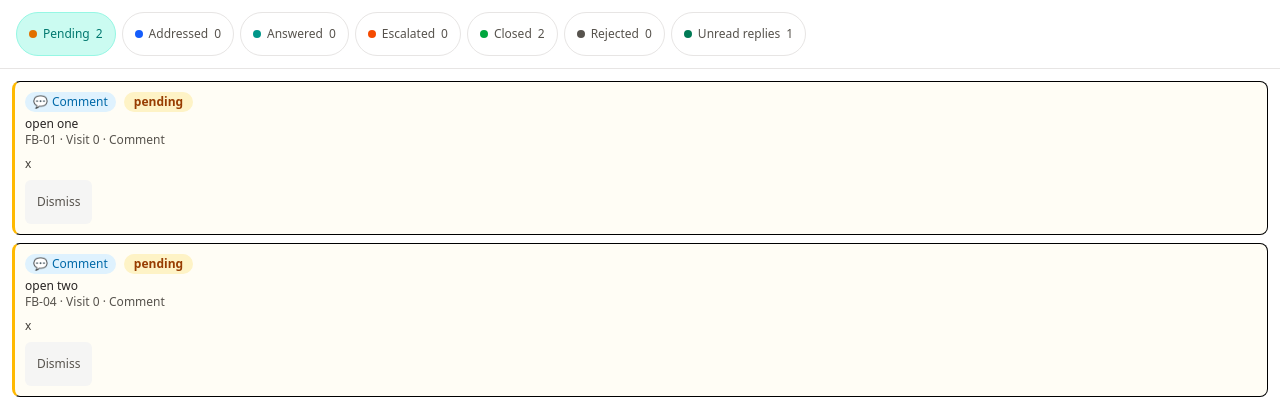
Scenario: FeedbackPanelBody — closure-reply unread filter chip › toggling the chip back restores the status filter view
Click the button with test id "feedback-unread-reply-filter" at (739, 34), box [671,12,806,56]
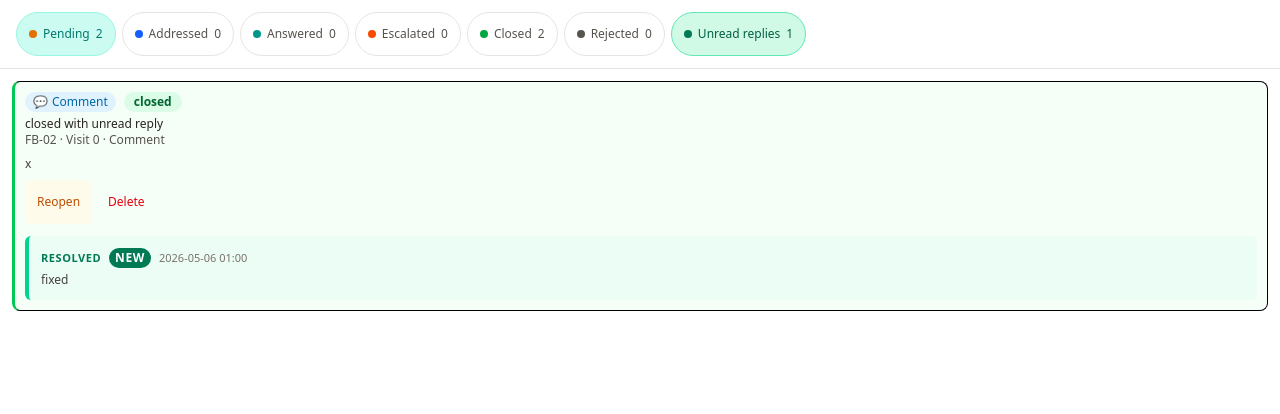
Click the button with test id "feedback-unread-reply-filter" at (739, 34), box [671,12,806,56]
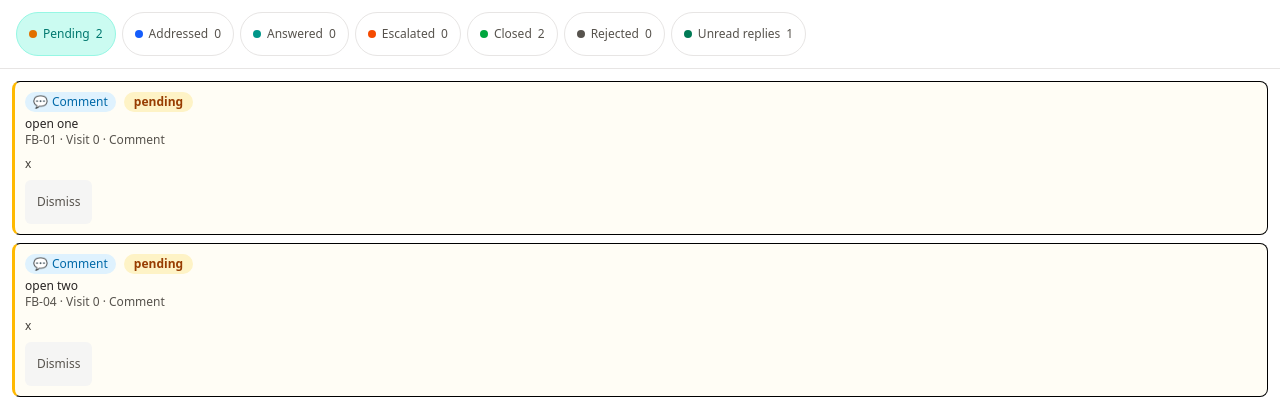
Expected: the text "open one" is shown, [25,115,78,132]
Expected: the text "open two" is shown, [25,277,78,294]
Expected: the button "closed with unread reply" is gone
